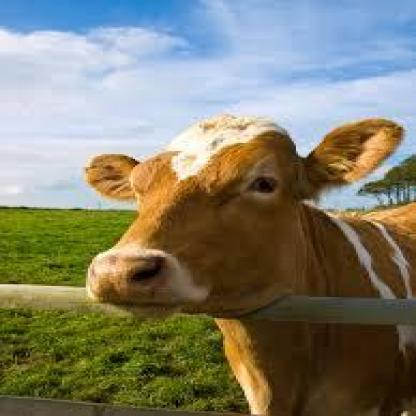cow: (83, 112, 416, 415)
